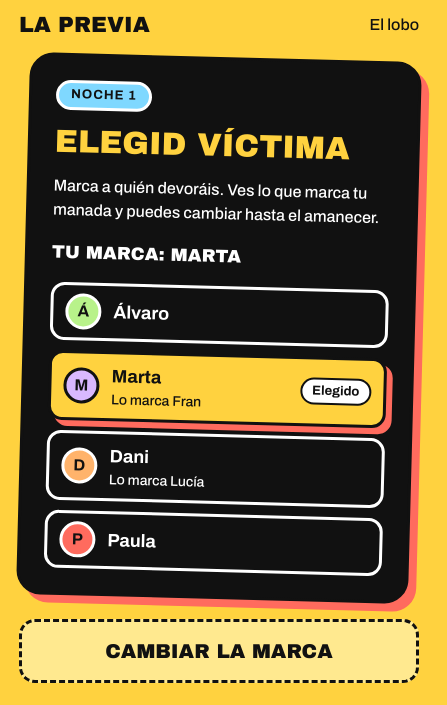
Scenario: LunaLlenaGame: noche › un lobo ve las marcas de la manada y puede cambiar la suya
The image size is (447, 705).
Expected: the button "Cambiar la marca" is disabled, [19,619,419,683]
Click the button "D Dani Lo marca Lucía" at (79, 465), box [46,429,385,508]
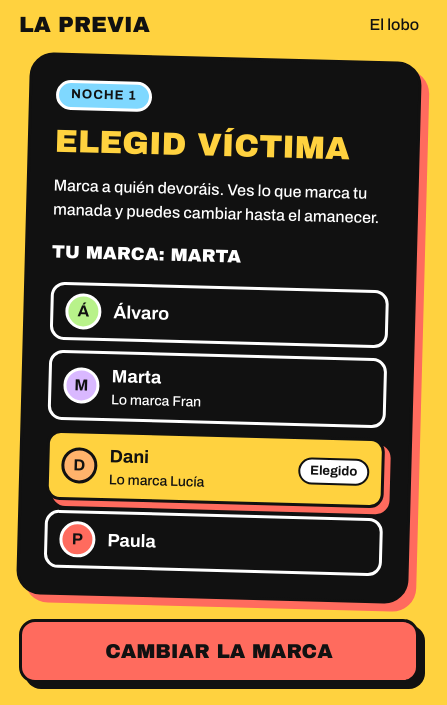
Now the button "Cambiar la marca" is enabled, box [19,619,419,683]
